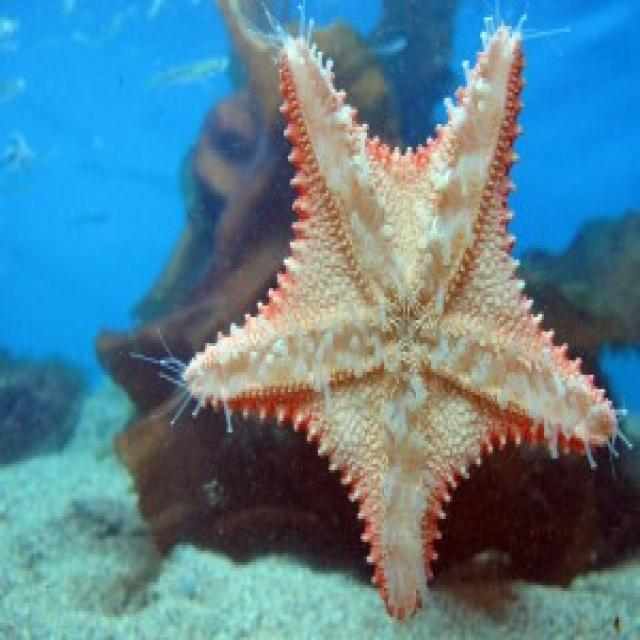Starfish: (182, 15, 630, 638)
